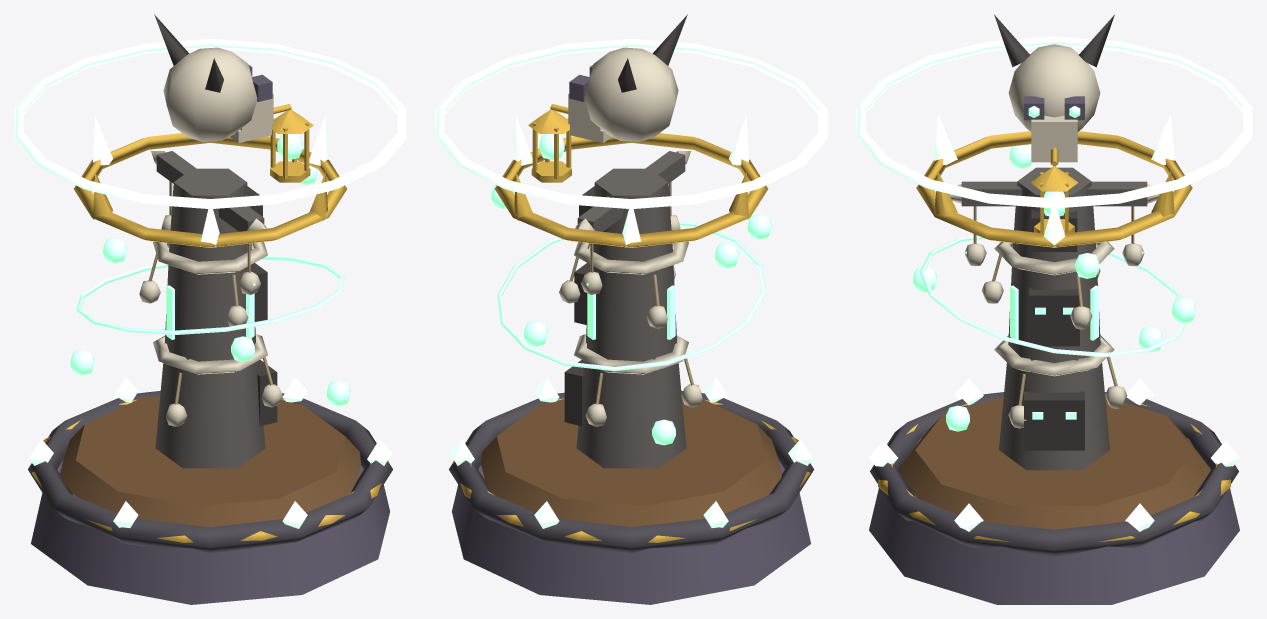
The model's file is tower_necromancer_soulLegion_ultimate.glb.
The picture shows the model from 3 angles, left to right: view 1: azimuth 30°, elevation 25°; view 2: azimuth 150°, elevation 25°; view 3: azimuth 270°, elevation 25°; orthographic projection.
Parts seen in each view (by area): view 1: grave_soil, base, base_rim, ult_halo, pole_0, skull_cranium, ult_crown_band, pole_1, pole_2, wisp_orbit, bone_ring_1, bone_ring_0 (+13 smaller); view 2: grave_soil, base, base_rim, ult_halo, pole_0, skull_cranium, pole_1, ult_crown_band, pole_2, wisp_orbit, bone_ring_1, crossbar (+13 smaller); view 3: grave_soil, base, base_rim, ult_halo, ult_crown_band, pole_0, skull_cranium, pole_face_0, pole_1, pole_2, pole_face_1, wisp_orbit (+14 smaller).
Part boxes in pixels (<box>): grave_soil: <box>60,396,360,527</box>; base: <box>31,460,389,604</box>; base_rim: <box>28,391,392,553</box>; ult_halo: <box>14,38,406,209</box>; pole_0: <box>155,361,265,468</box>; skull_cranium: <box>163,47,257,141</box>; ult_crown_band: <box>74,133,346,247</box>; pole_1: <box>165,249,255,361</box>; pole_2: <box>169,168,251,261</box>; wisp_orbit: <box>76,255,344,334</box>; bone_ring_1: <box>153,241,267,274</box>; bone_ring_0: <box>153,334,267,374</box>; grave_soil: <box>481,399,781,527</box>; base: <box>452,460,810,604</box>; base_rim: <box>449,391,813,553</box>; ult_halo: <box>435,38,827,209</box>; pole_0: <box>576,361,686,468</box>; skull_cranium: <box>584,47,678,141</box>; pole_1: <box>586,249,676,361</box>; ult_crown_band: <box>495,133,767,247</box>; pole_2: <box>593,168,672,261</box>; wisp_orbit: <box>497,221,765,371</box>; bone_ring_1: <box>574,241,688,274</box>; crossbar: <box>577,151,685,231</box>; grave_soil: <box>898,396,1210,529</box>; base: <box>869,438,1239,604</box>; base_rim: <box>870,392,1238,556</box>; ult_halo: <box>856,36,1252,208</box>; ult_crown_band: <box>916,131,1192,247</box>; pole_0: <box>999,363,1109,470</box>; skull_cranium: <box>1008,44,1100,131</box>; pole_face_0: <box>1024,391,1084,450</box>; pole_1: <box>1008,250,1100,362</box>; pole_2: <box>1012,167,1096,262</box>; pole_face_1: <box>1029,287,1079,346</box>; wisp_orbit: <box>919,235,1186,357</box>.
Size of the model in its own units: 0.434 by 0.5985 by 0.4274.
